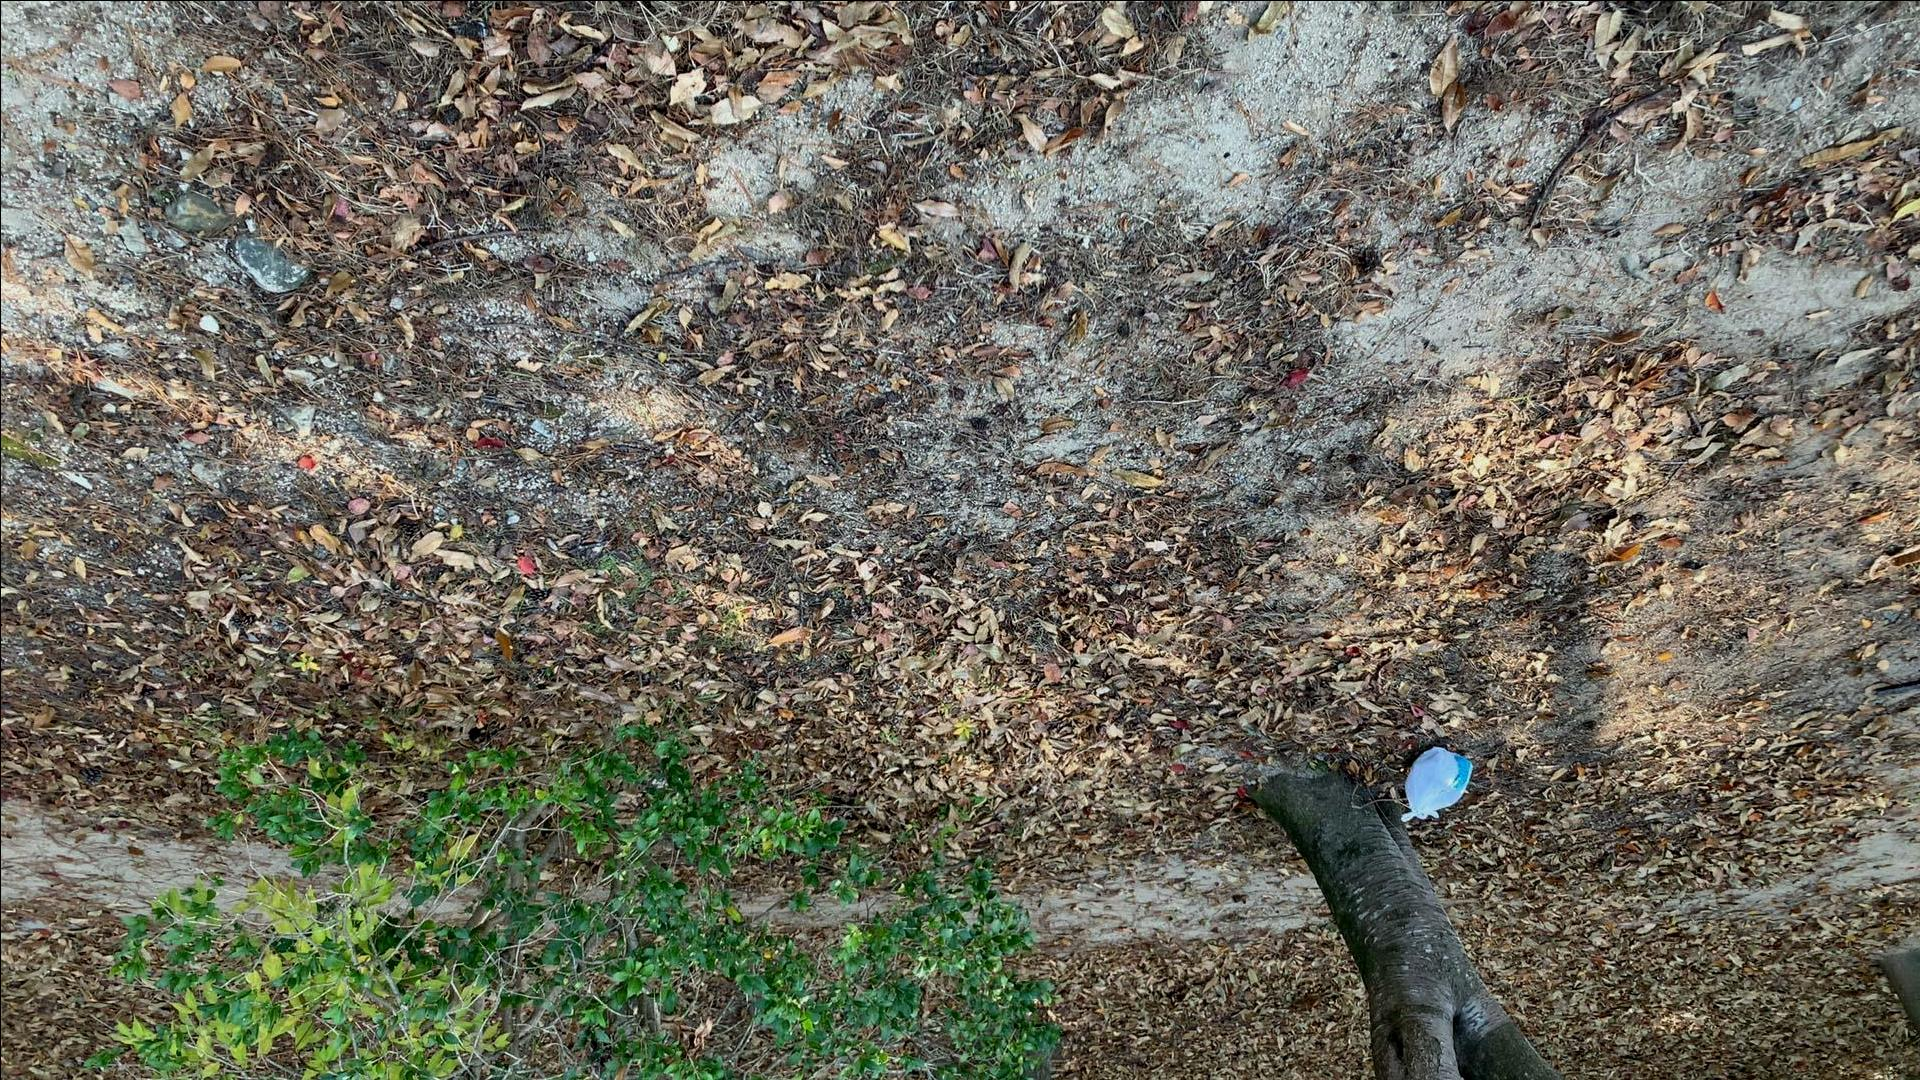white_bag: (1395, 738, 1480, 827)
